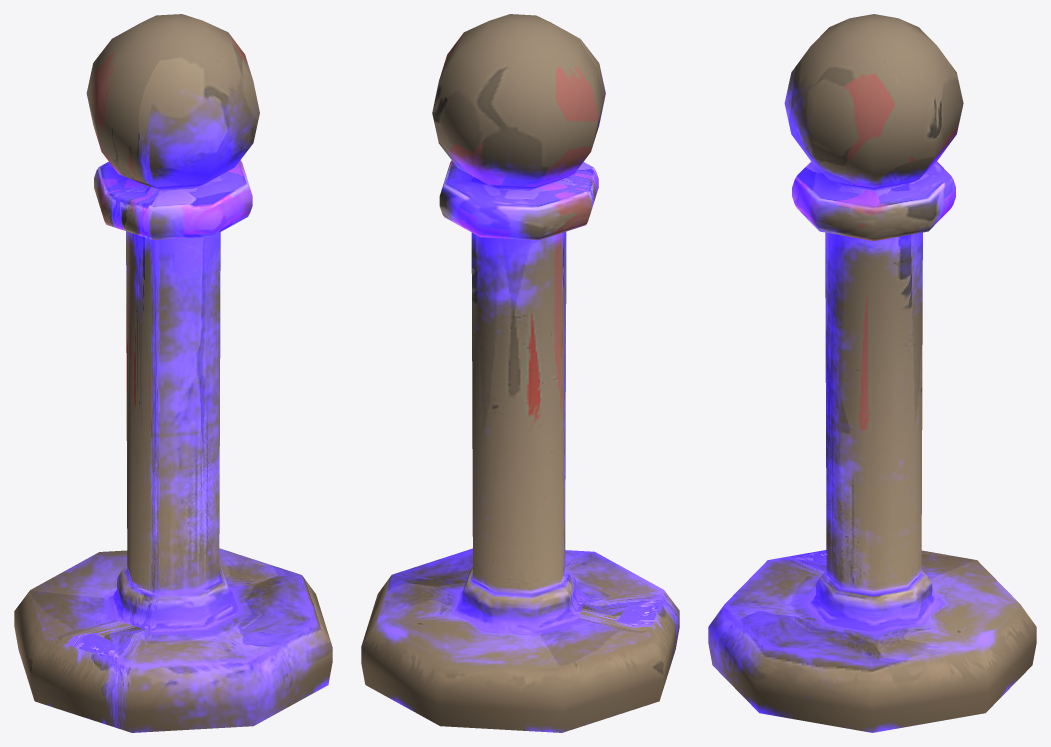
Rendered from poste_simple.fbx.
3 renders of one model, left to right at view 1: azimuth 30°, elevation 25°; view 2: azimuth 150°, elevation 25°; view 3: azimuth 270°, elevation 25°, orthographic.
Visible parts, largest first — view 1: poste_simple; view 2: poste_simple; view 3: poste_simple.
Part boxes in pixels (<box>): poste_simple: <box>14,14,332,732</box>; poste_simple: <box>361,14,679,732</box>; poste_simple: <box>708,14,1036,732</box>.
Size of what is drawn, in the model's own units: 22.47 by 48.57 by 22.47.
